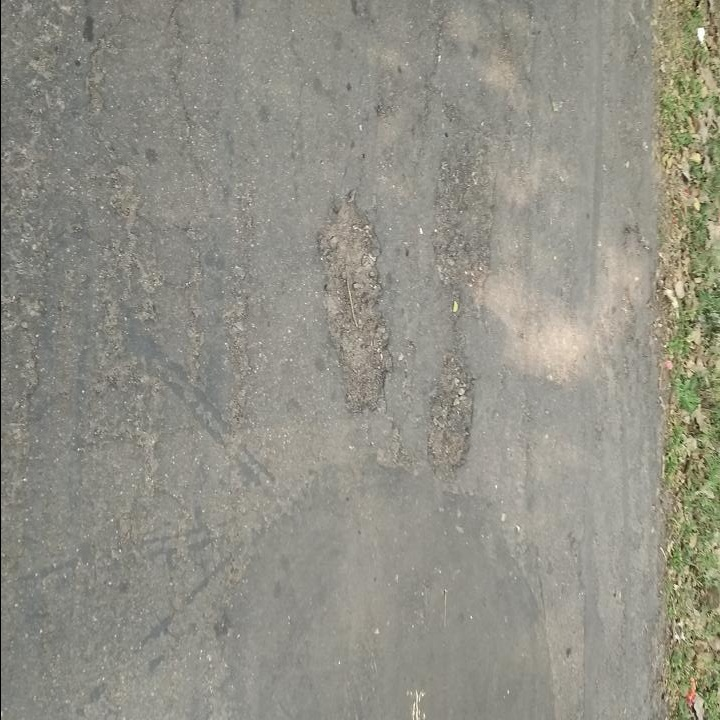pothole: (315, 188, 399, 418), (429, 139, 499, 300), (422, 351, 481, 474)
